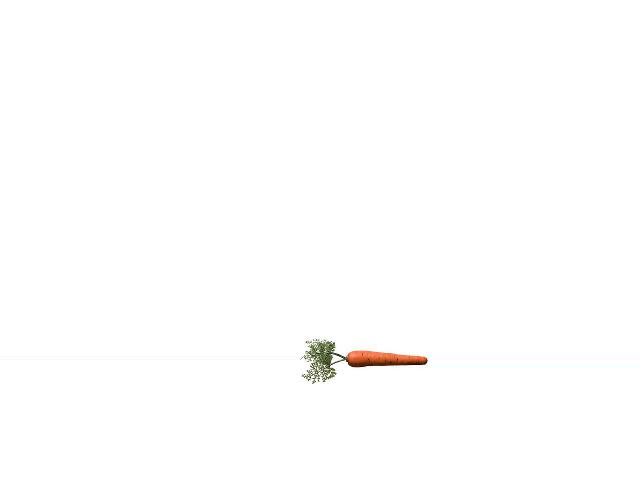carrot: (339, 346, 430, 372)
